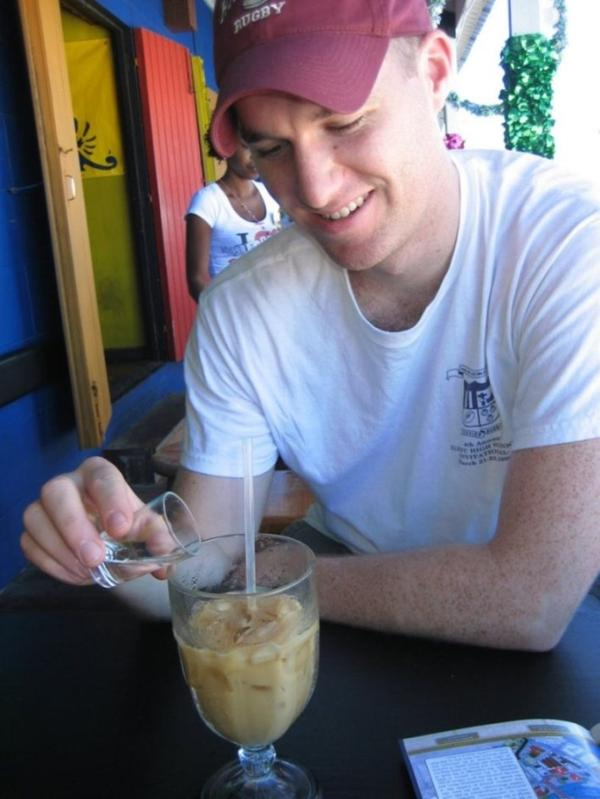person: (20, 4, 598, 651)
